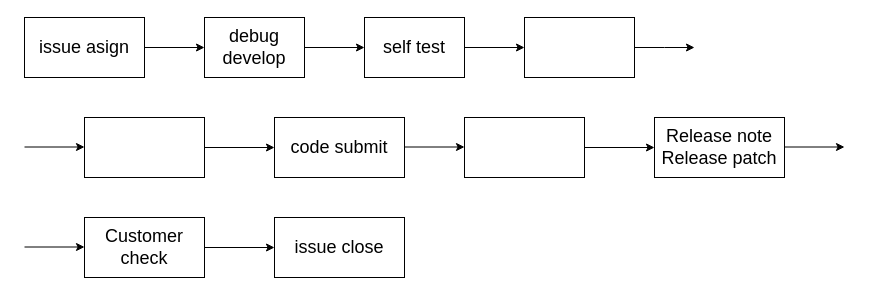
Image size: 870x295. Some labels were removed from this diagram. Here are the shapes that lost their labels. From the top down, the box of each, then its label:
(524, 16, 634, 78): git commit git push
(84, 116, 204, 178): code review
(464, 116, 584, 178): QC test
